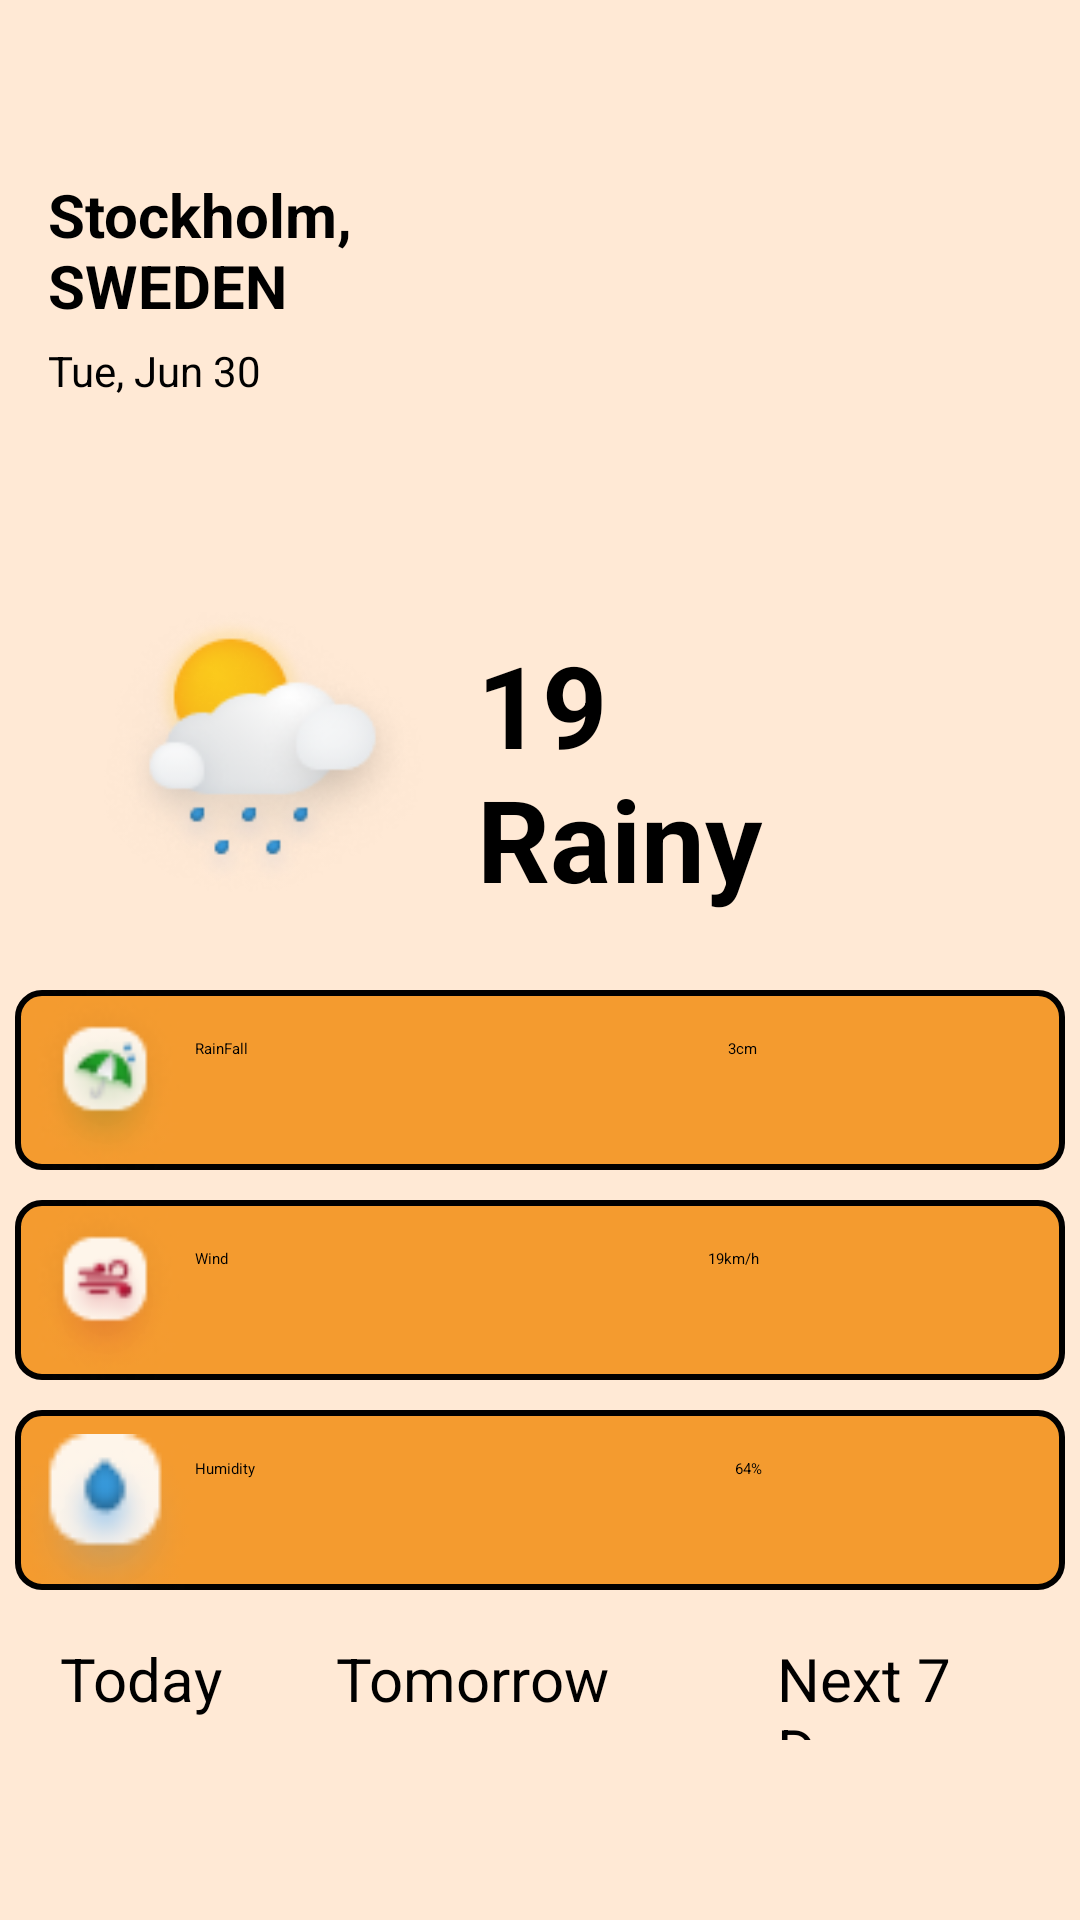

Icon click points for this 1080*1920 phone screenshot, format [x,y]:
cludy: [262,744]
